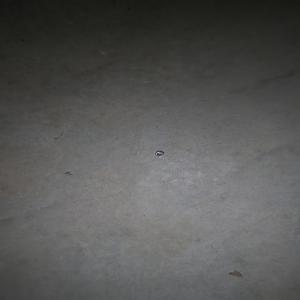Nut: (154, 151, 164, 156)
